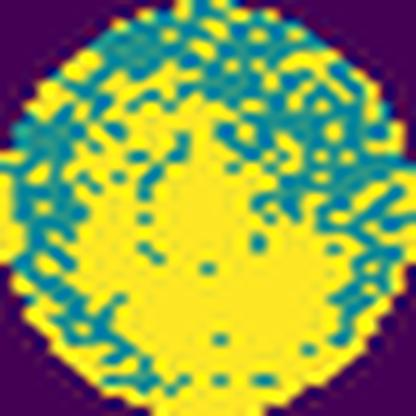Loc: (13, 59, 416, 416)
